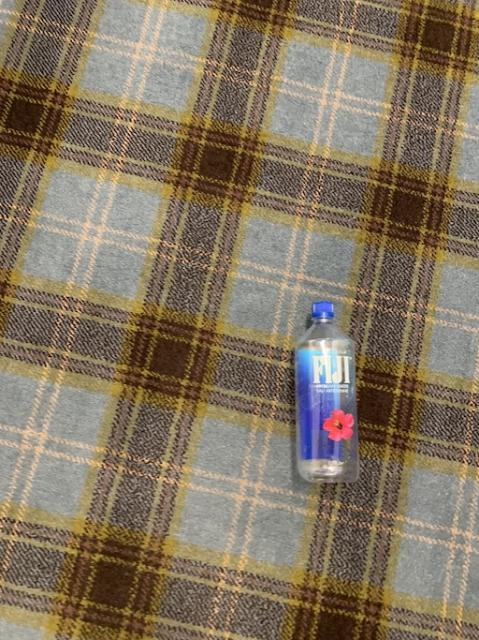plastic: (295, 301, 358, 481)
